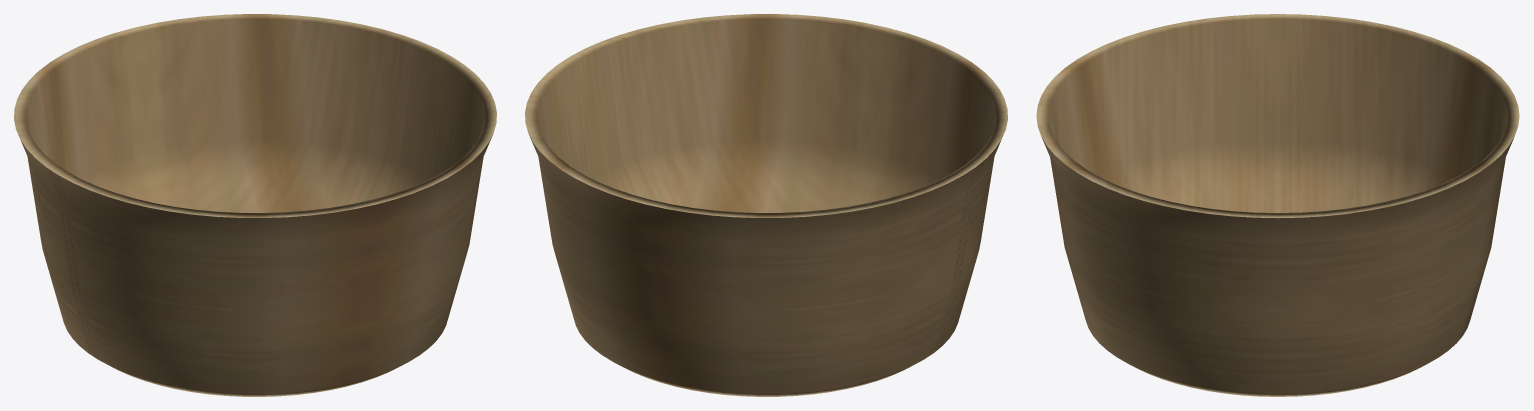
The model's file is ORI-17.glb.
3 views of the same model, side by side, from view 1: azimuth 30°, elevation 25°; view 2: azimuth 150°, elevation 25°; view 3: azimuth 270°, elevation 25° (orthographic).
Bounding box in the file's own units: 0.15 × 0.07 × 0.15.
2 materials, 2 textured.
